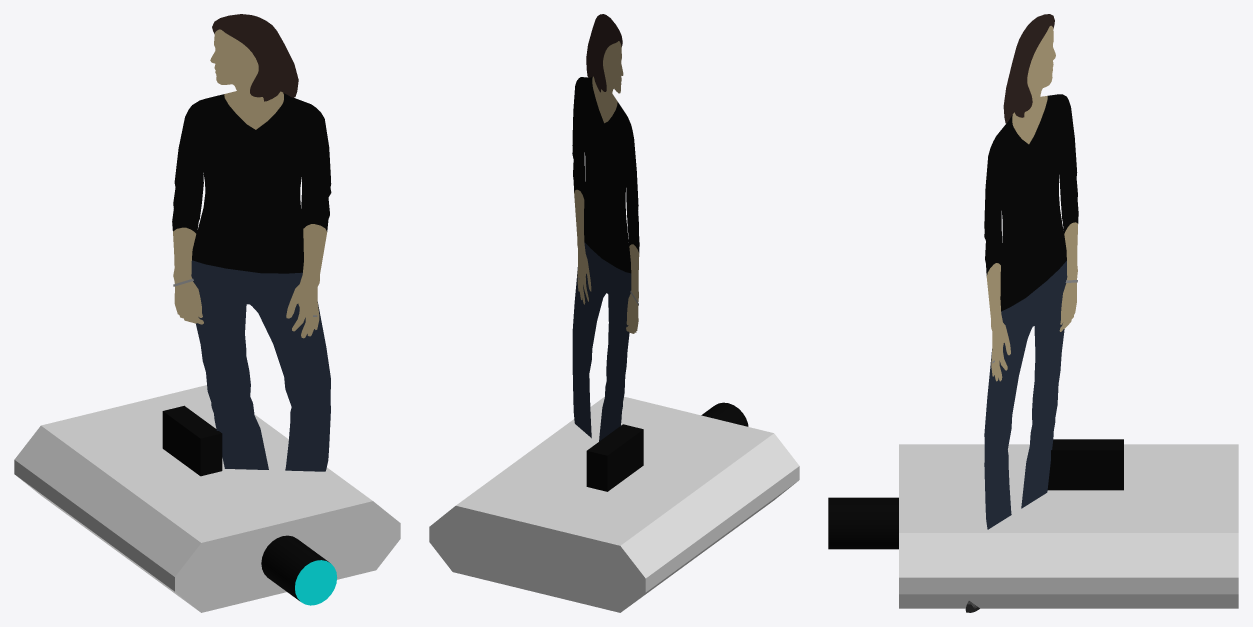
File: projector.dae
The picture shows the model from 3 angles, left to right: view 1: azimuth 30°, elevation 25°; view 2: azimuth 150°, elevation 25°; view 3: azimuth 270°, elevation 25°; orthographic projection. The views are drawn at different scales.
Parts seen in each view (by area): view 1: Susan (×7), SketchUp (×4); view 2: SketchUp (×3), Susan (×5); view 3: SketchUp (×3), Susan (×7).
Part boxes in pixels (<box>): Susan (×7): <box>172,14,331,471</box>; SketchUp (×4): <box>14,385,400,612</box>; SketchUp (×3): <box>429,396,799,612</box>; Susan (×5): <box>572,14,639,441</box>; SketchUp (×3): <box>828,439,1238,608</box>; Susan (×7): <box>984,14,1078,529</box>.
Bounding box in the file's own units: 29.94 × 44.56 × 66.6.
